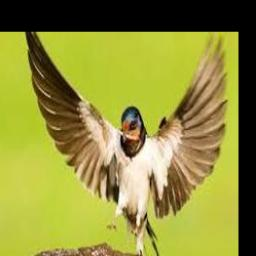Swallow: (24, 32, 227, 256)
